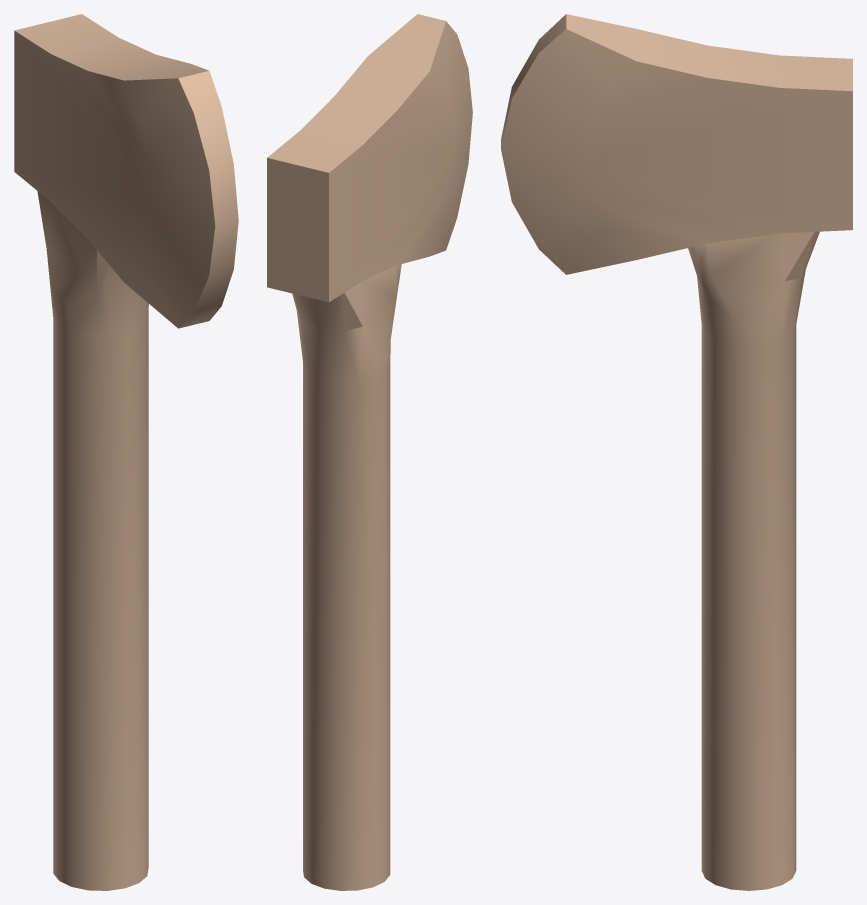
Rendered from axe.dae.
3 renders of one model, left to right at view 1: azimuth 30°, elevation 25°; view 2: azimuth 150°, elevation 25°; view 3: azimuth 270°, elevation 25°, orthographic. The views are drawn at different scales.
Visible parts, largest first — view 1: Object; view 2: Object; view 3: Object.
Boxes of the visible parts, box(x1,y1,x2,y2) form: Object: box(14, 14, 238, 890); Object: box(267, 14, 472, 890); Object: box(501, 14, 852, 890).
Size of the model in its own units: 0.0032 by 0.0119 by 0.0318.
